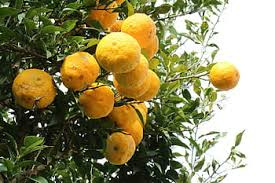orange: (11, 64, 56, 115), (95, 31, 141, 76), (62, 51, 100, 91), (82, 82, 115, 120), (206, 60, 242, 91), (106, 129, 136, 165)
